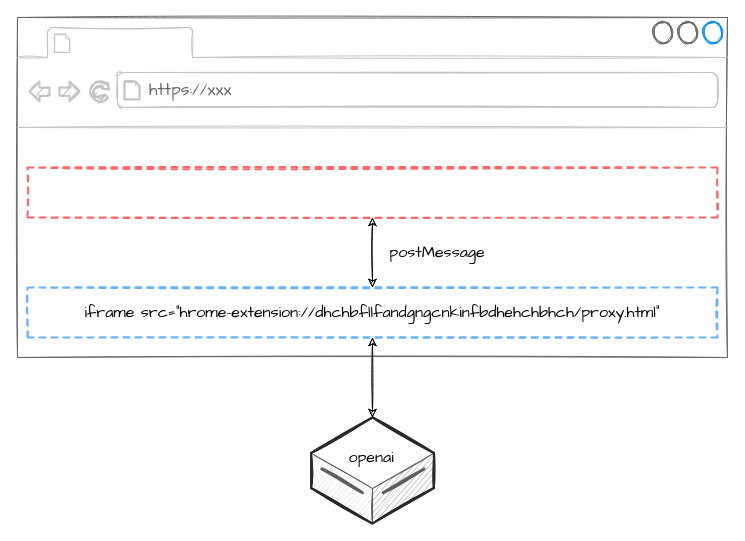
Image size: 745x541. Some labels were removed from this diagram. Each missing label, with the centre of its shape:
"content.js" belongs at (x=372, y=192).
"Page" belongs at (x=132, y=42).
